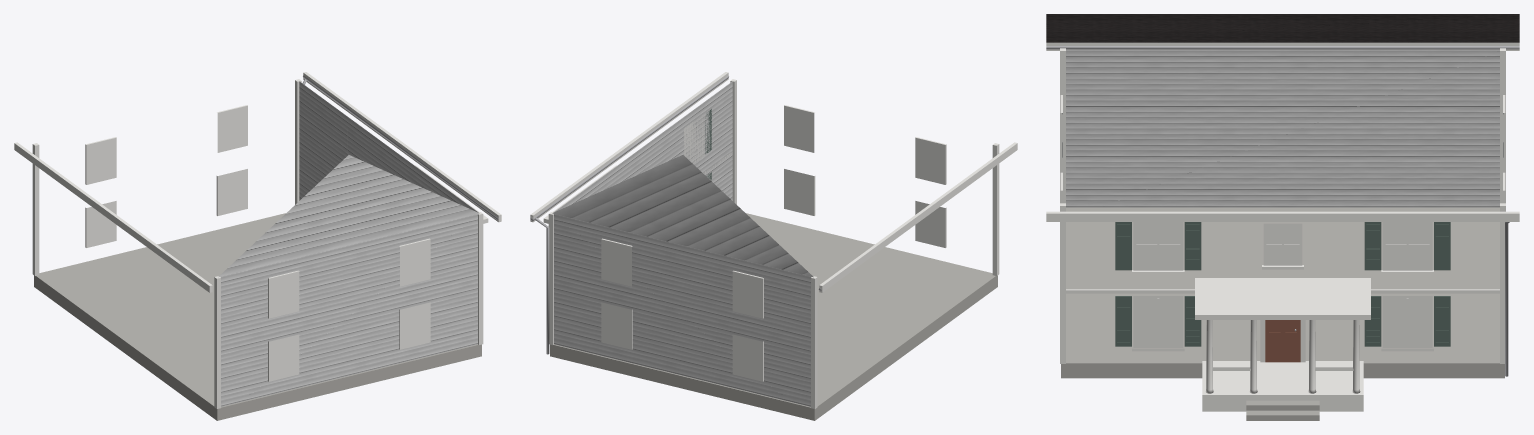
File: house_a.glb
3 renders of one model, left to right at view 1: azimuth 30°, elevation 25°; view 2: azimuth 150°, elevation 25°; view 3: azimuth 270°, elevation 25°, orthographic. The views are drawn at different scales.
Visible parts, largest first — view 1: House; view 2: House; view 3: House.
Boxes of the visible parts, x1,y1,x2,y2 form: House: [14, 72, 501, 420]; House: [530, 72, 1017, 420]; House: [1046, 14, 1519, 420].
Size of the model in its own units: 13.37 by 8.61 by 12.9.
Materials: 8 (2 with a texture image).
